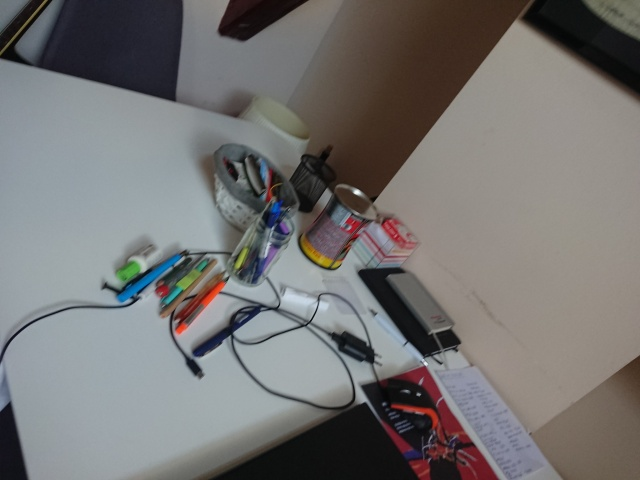Nescafe Classic 225g: (295, 181, 381, 272)
